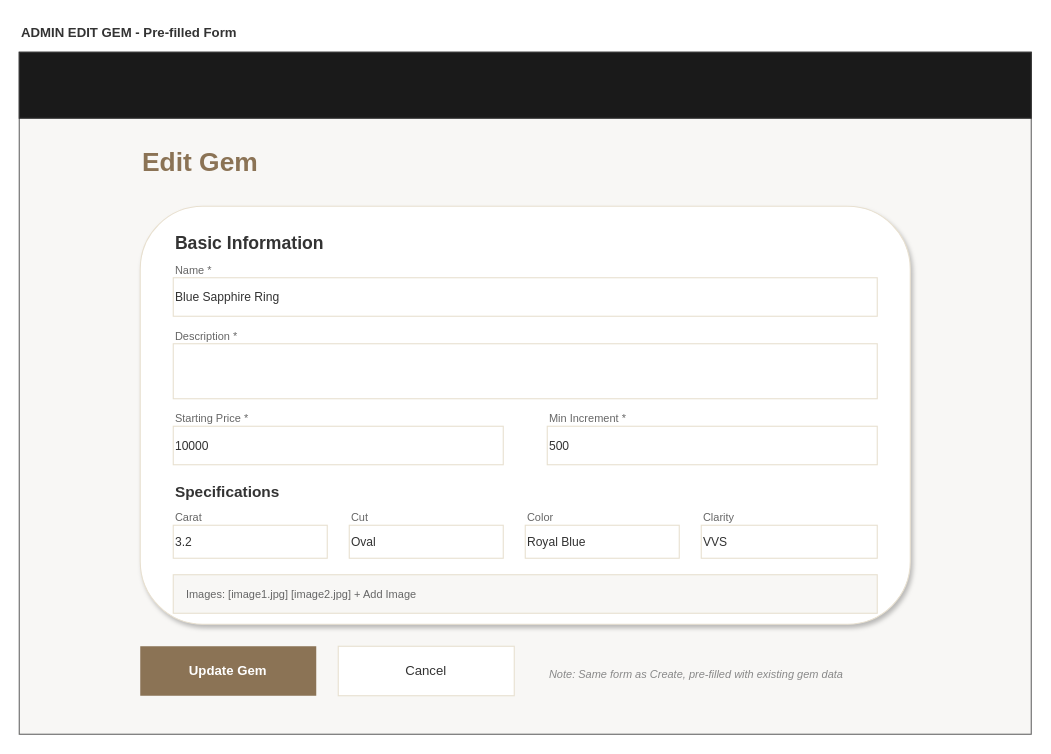
Some shapes in this 1051 by 754 pixel diagram are drawn without their labels. Here are the shapes that lost their labels. From the top down, the centre of each, then its label:
the point at 524,84: LUXBID Reserve
the point at 524,371: Rare Ceylon sapphire with exceptional clarity and vivid royal blue color...
